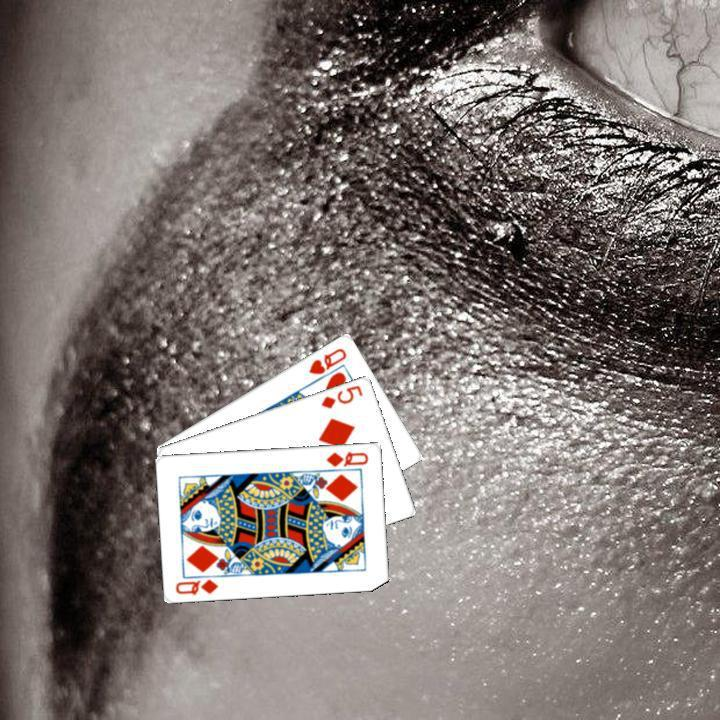5: (317, 380, 365, 410)
Q: (304, 343, 349, 376), (171, 574, 220, 596), (322, 447, 370, 469)
